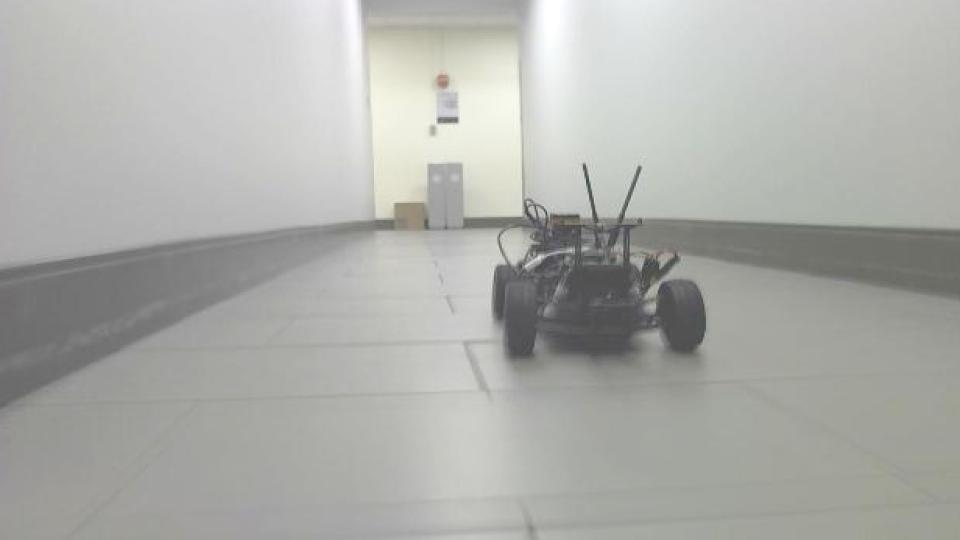car: (486, 159, 709, 361)
